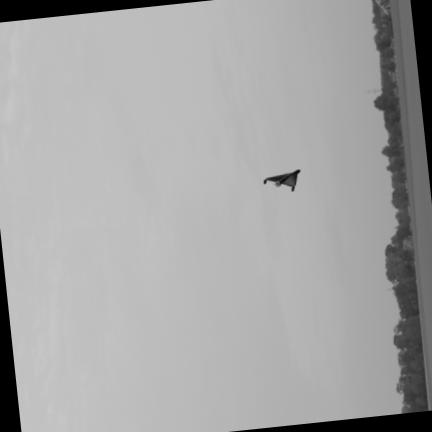Shahed: (264, 169, 300, 190)
